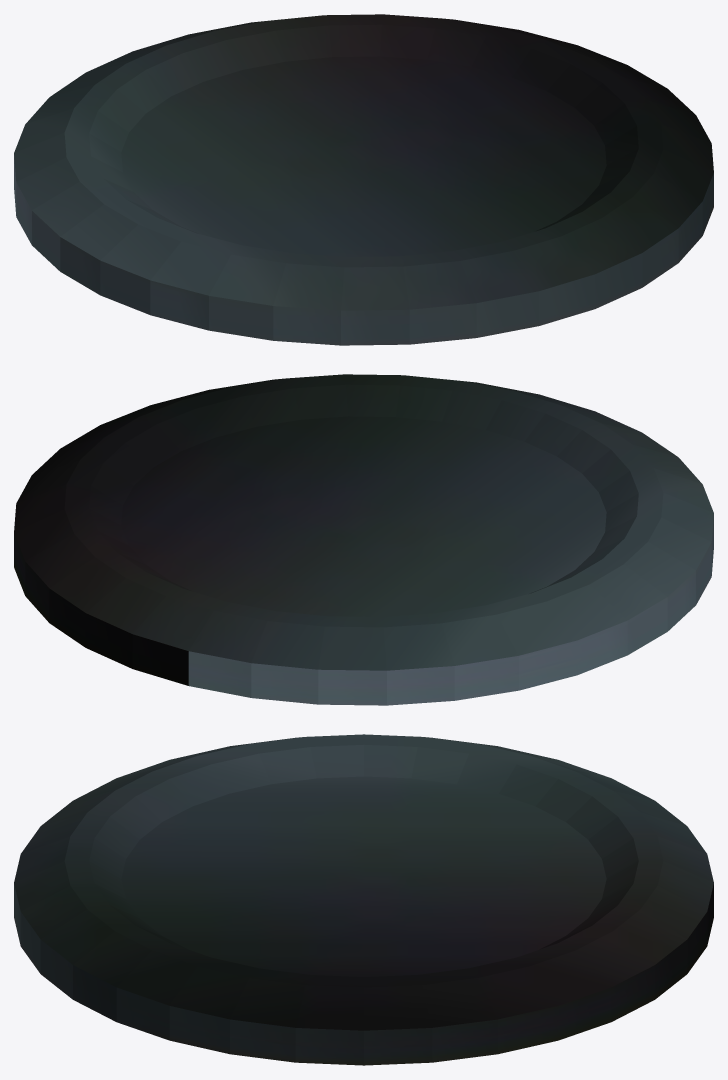
The model's file is socle.glb.
The picture shows the model from 3 angles, top to bottom: view 1: azimuth 30°, elevation 25°; view 2: azimuth 150°, elevation 25°; view 3: azimuth 270°, elevation 25°; orthographic projection.
Parts seen in each view (by area): view 1: Cylinder; view 2: Cylinder; view 3: Cylinder.
Part boxes in pixels (x1,y1,x2,y2): Cylinder: (14,14,713,345); Cylinder: (14,374,713,705); Cylinder: (14,734,713,1065).
Size of the model in its own units: 11.07 by 0.9887 by 11.07.
Materials: 1 (1 with a texture image).
